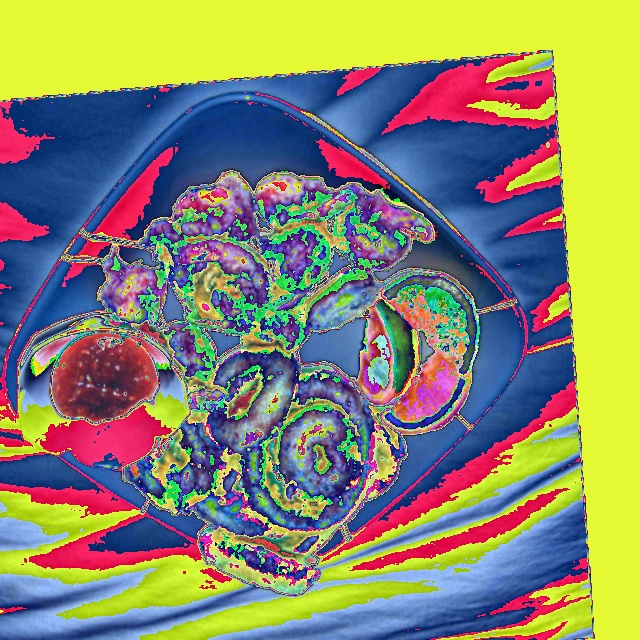background: (97, 173, 481, 596), (49, 95, 159, 425)
